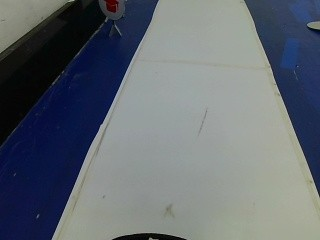school: (95, 0, 123, 21)
